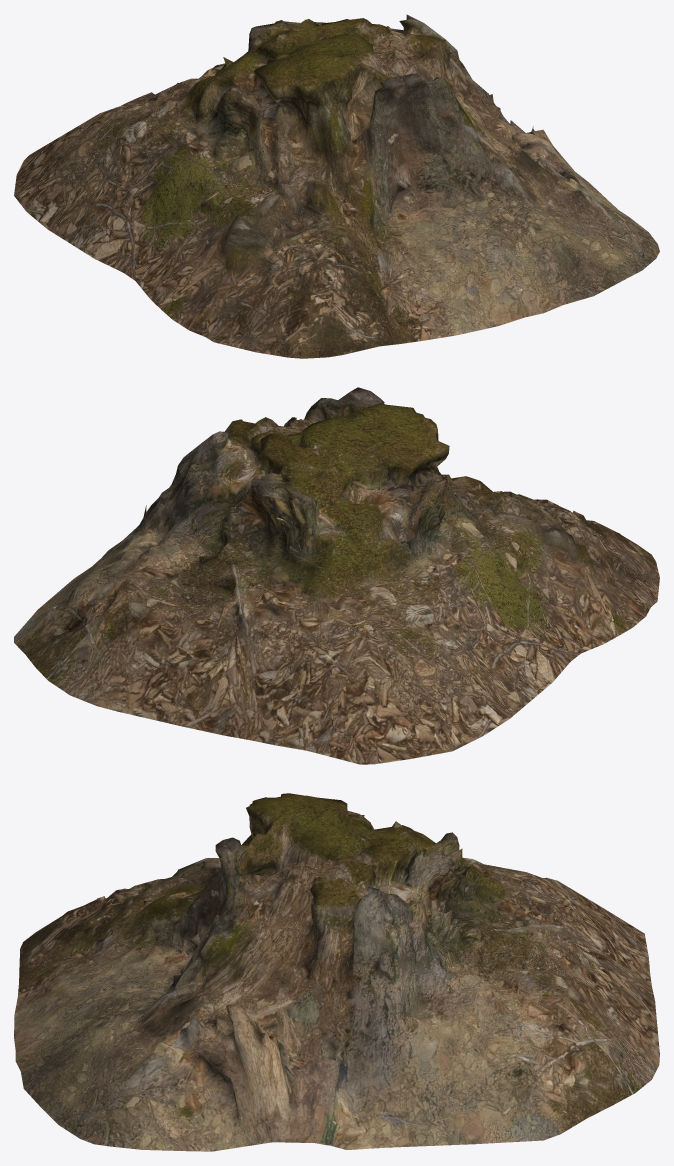
File: tree_stump.glb
3 views of the same model, one above another, from view 1: azimuth 30°, elevation 25°; view 2: azimuth 150°, elevation 25°; view 3: azimuth 270°, elevation 25° (orthographic). The views are drawn at different scales.
Visible parts, largest first — view 1: tree_stump_01; view 2: tree_stump_01; view 3: tree_stump_01.
Part boxes in pixels (box(x1,y1,x2,y2)): tree_stump_01: box(14, 14, 659, 358); tree_stump_01: box(14, 387, 659, 764); tree_stump_01: box(14, 793, 659, 1151).
Size of the model in its own units: 1.43 by 0.571 by 1.59.
1 material, 1 textured.
